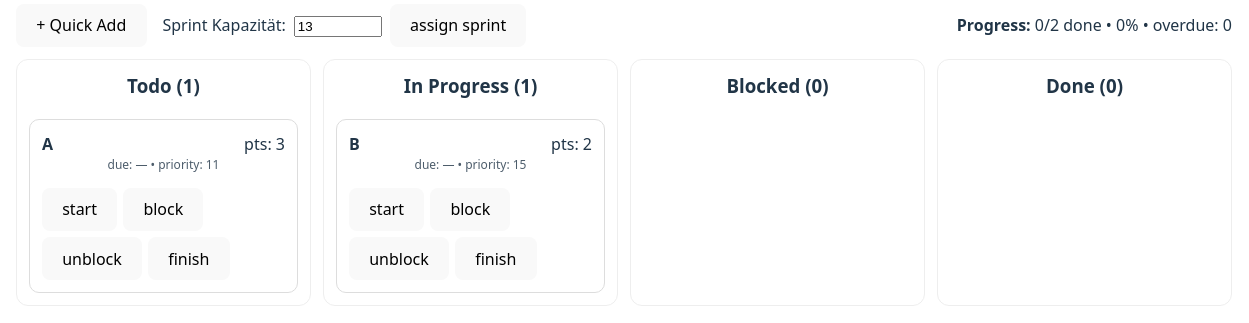
Test: TaskBoard › führt Status-Aktion aus (finish)
The image size is (1249, 323).
Expected: the text "A" is shown, [42,132,53,156]
Click the button "finish" below "11" at (189, 259), box [148,237,230,280]
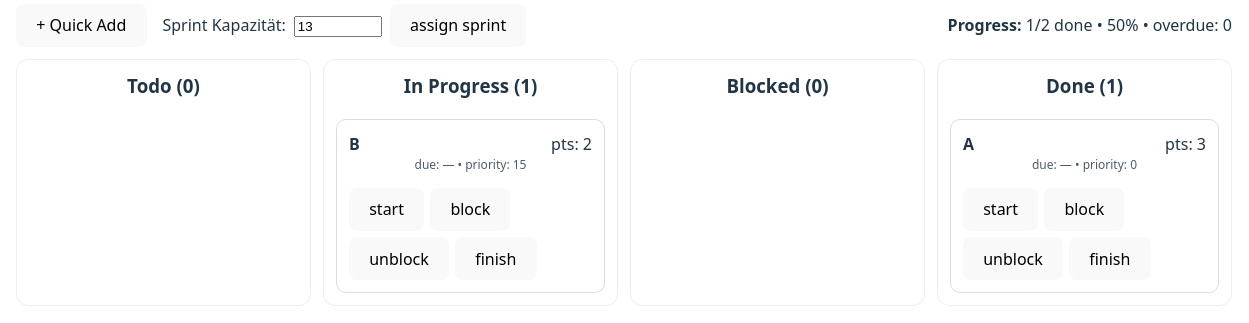
Expected: the heading "Done (1)" is shown, [1046,73,1123,98]
Expected: the text "A" is shown, [963,132,974,156]
